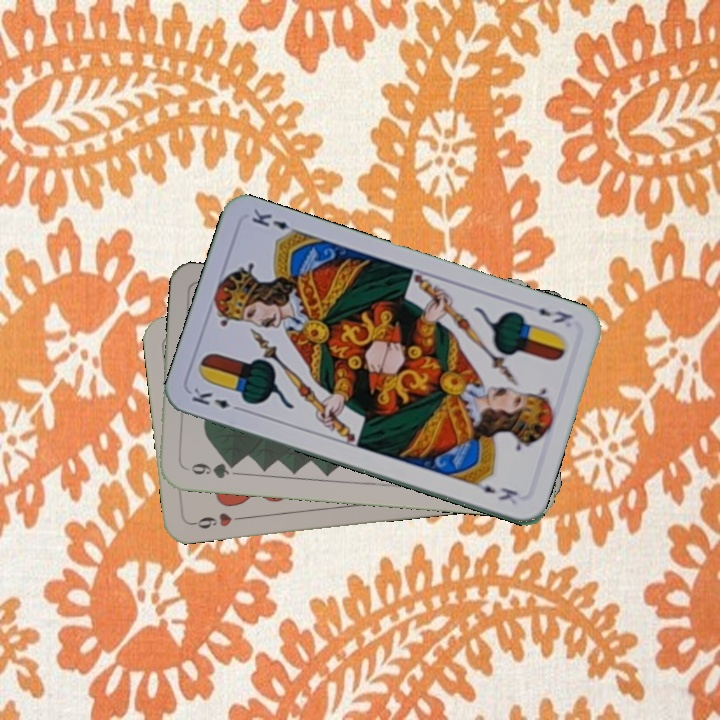EK: (187, 383, 246, 415), (523, 300, 575, 326)
G9: (180, 459, 240, 482)
H9: (188, 508, 247, 532)
